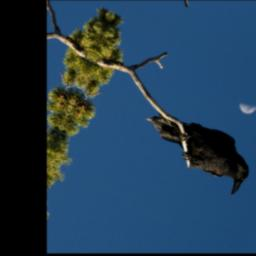Crow: (131, 97, 256, 201)
